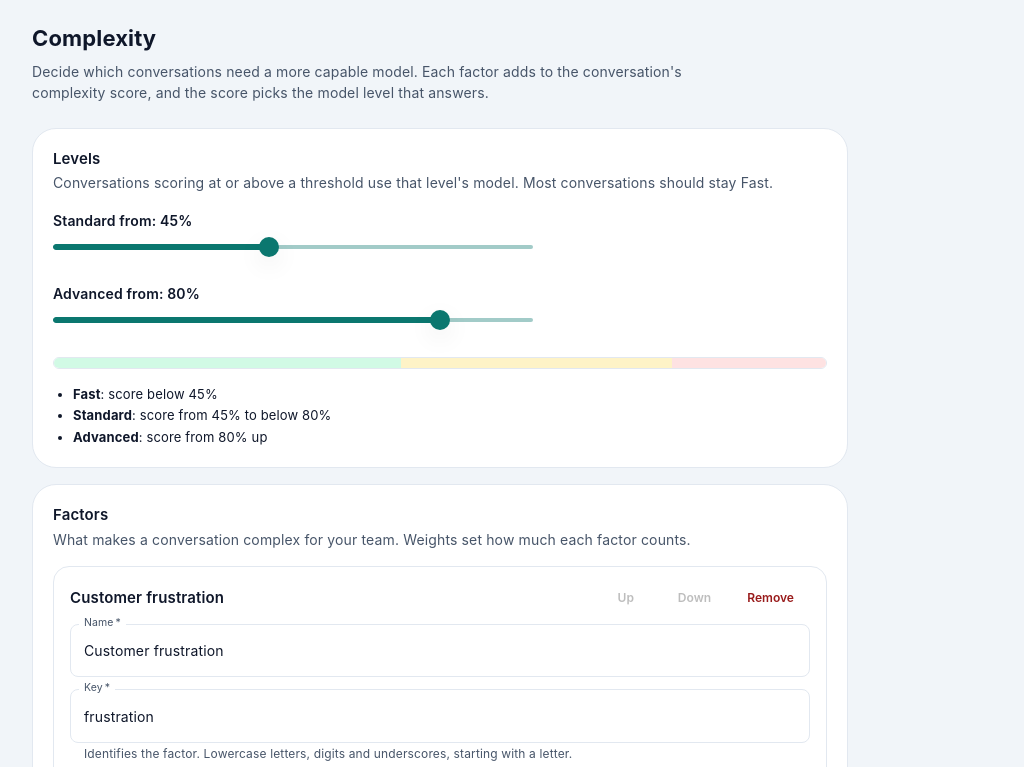
Test: ComplexityPage › moves focus to Add factor after removing the last factor
The width and height of the screenshot is (1024, 767).
Click the button with aria-label "Remove Customer frustration": (771, 598) top-left (731, 583), bottom-right (810, 612)
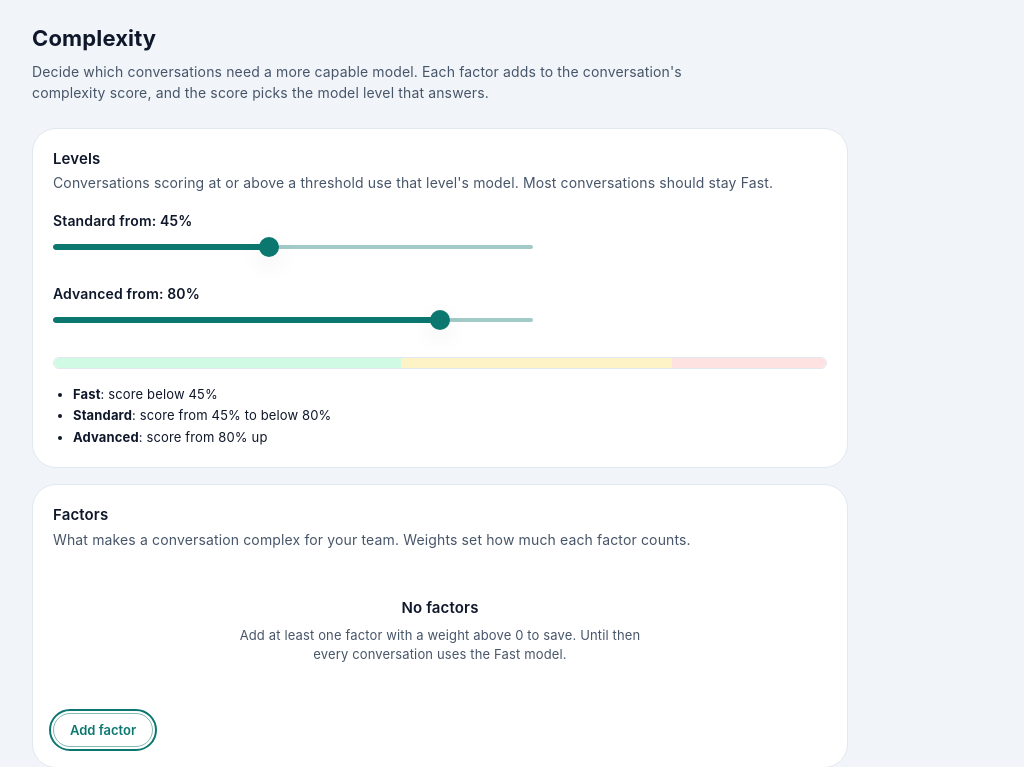
Expected: the text "Add at least one factor with a weight above 0 to save" is shown, top-left (240, 627), bottom-right (640, 662)
